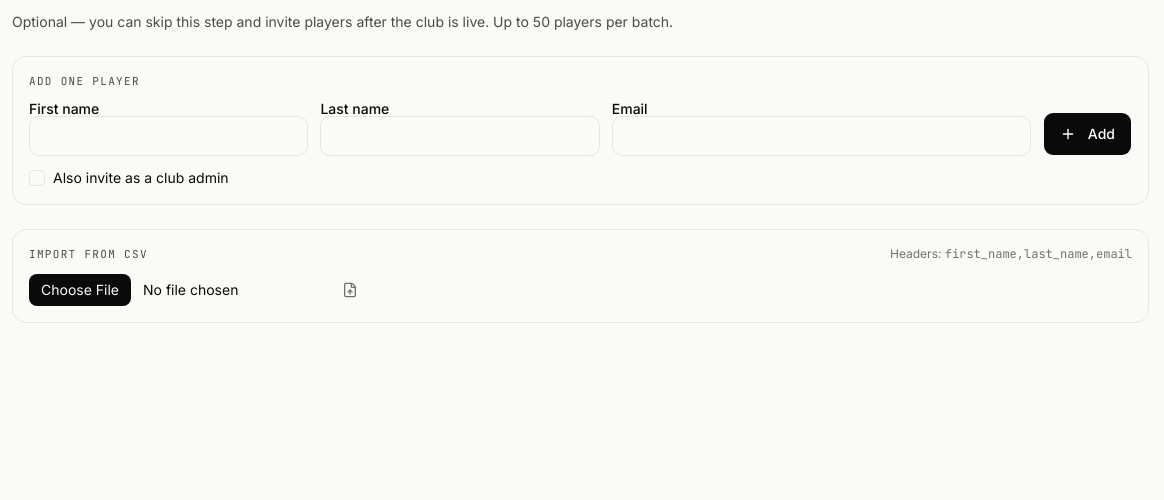
Step4Players › blocks a duplicate email (case-insensitive)
The image size is (1164, 500).
Type "Ada" into the field with test id "draft-first-name" at (169, 136), box [29,116,308,156]
Type "Lovelace" into the field with test id "draft-last-name" at (460, 136), box [320,116,600,156]
Type "ada@club.co.za" into the field with test id "draft-email" at (821, 136), box [612,116,1031,156]
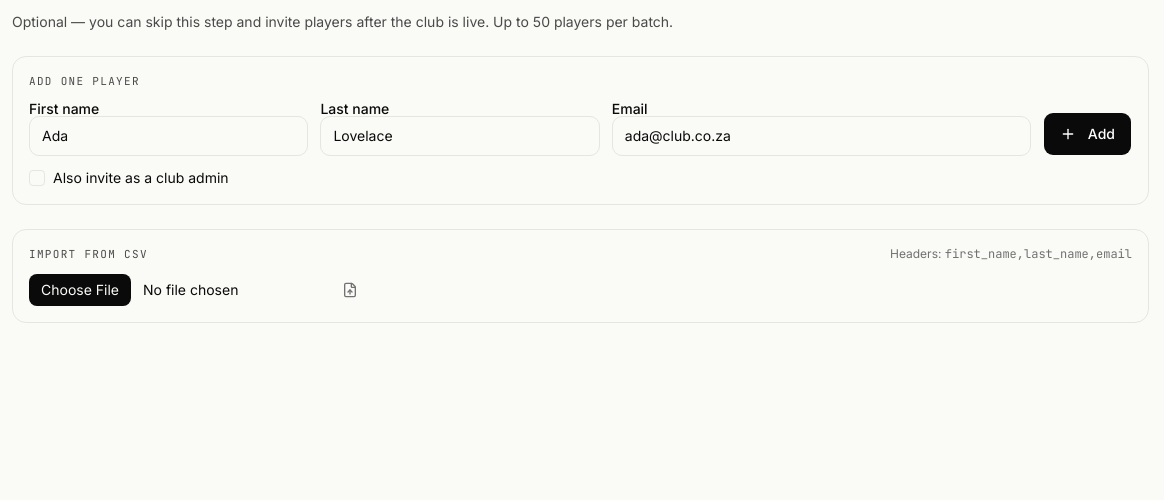
Click the button with test id "draft-add" at (1087, 134), box [1043,112,1132,156]
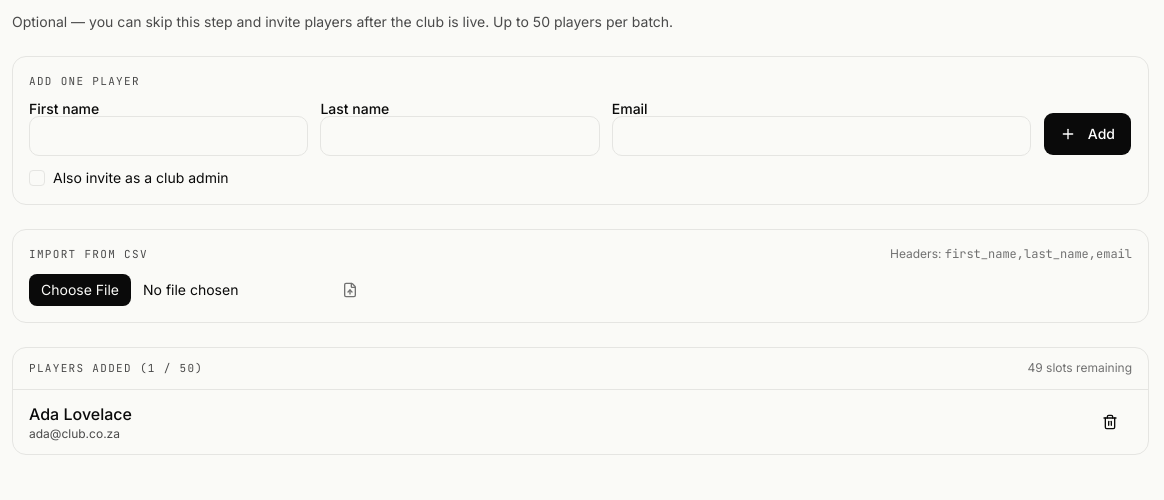
Type "Ada2" into the field with test id "draft-first-name" at (169, 136), box [29,116,308,156]
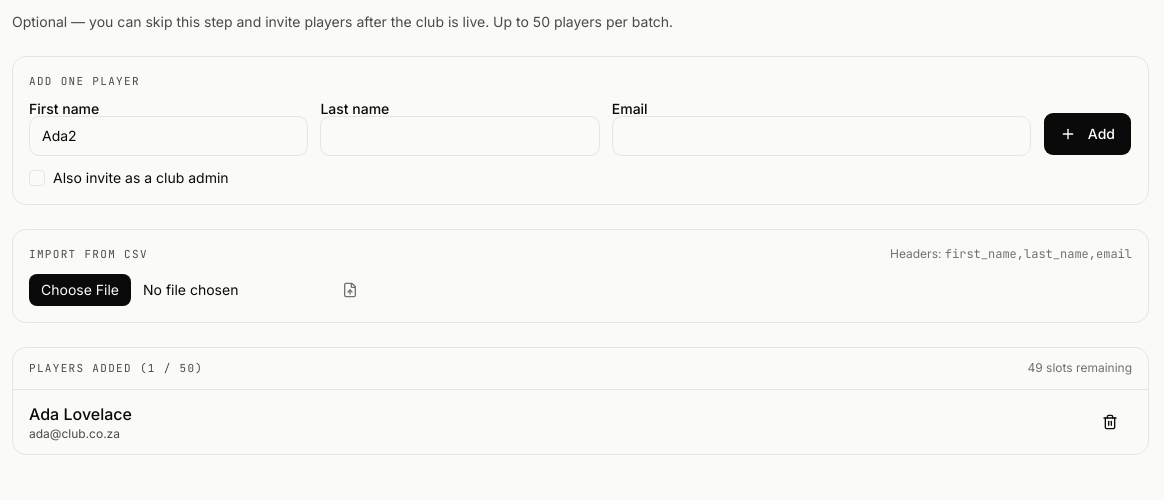
Type "Dup" into the field with test id "draft-last-name" at (460, 136), box [320,116,600,156]
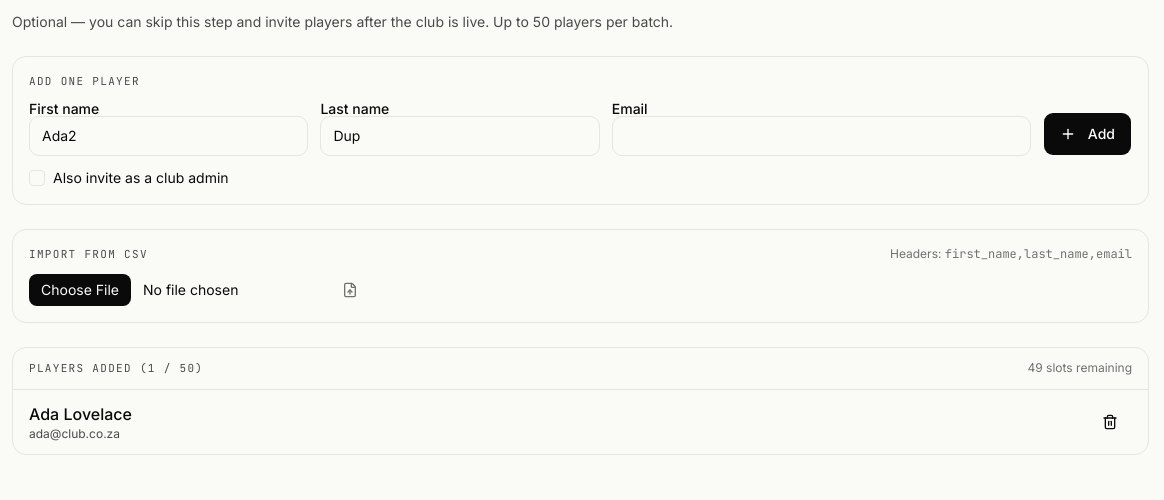
Type "ADA@club.co.za" into the field with test id "draft-email" at (821, 136), box [612,116,1031,156]
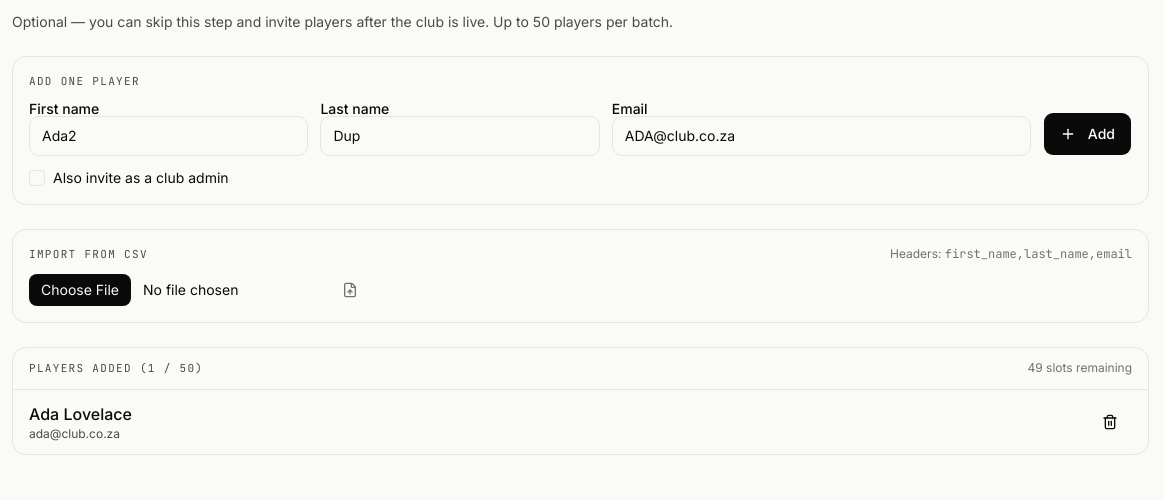
Click the button with test id "draft-add" at (1087, 134), box [1043,112,1132,156]
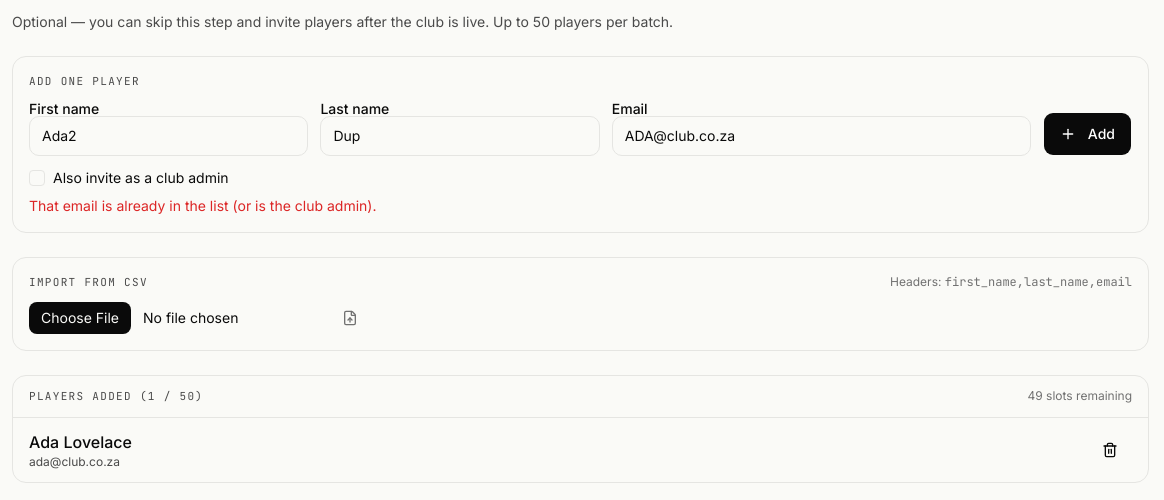
expect the text with test id "draft-error" shows "already in the list": met, box [29,196,376,214]
